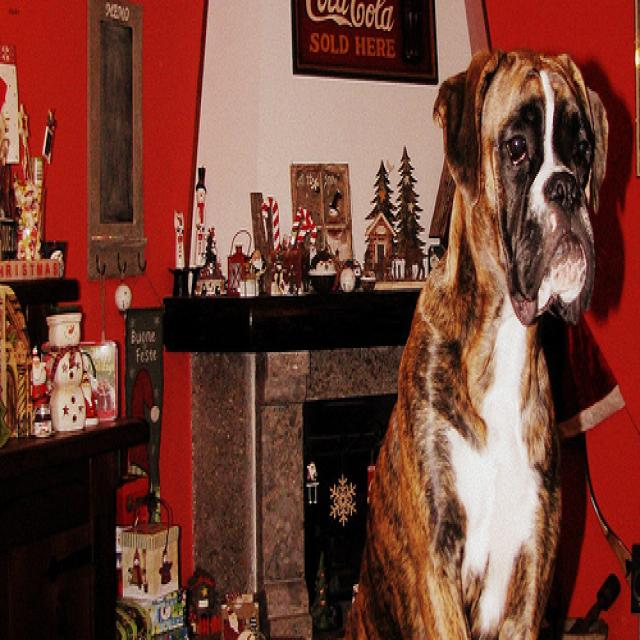dog-boxer: (335, 33, 612, 636)
